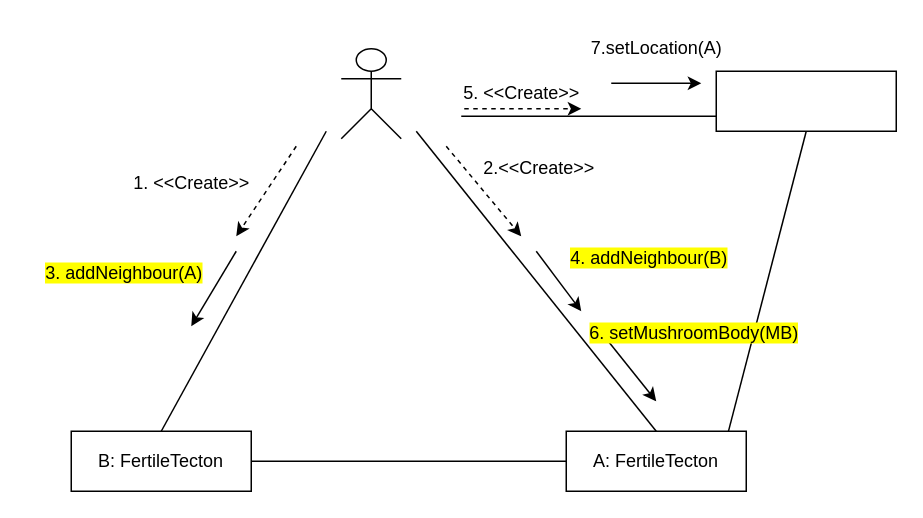
Some shapes in this 923 by 518 pixel diagram are drawn without their labels. Here are the shapes that lost their labels. From the top down, the box of each, then its label:
(340, 47, 401, 139): Tester
(715, 70, 896, 131): MB: MushroomBody
